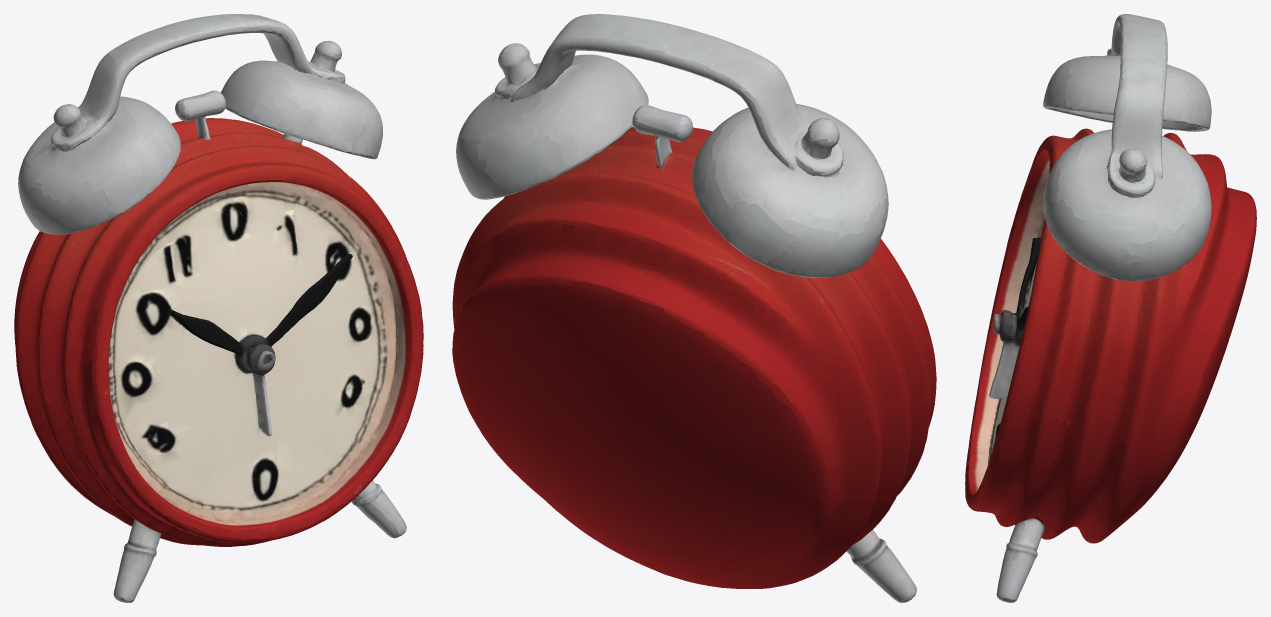
File: parts.glb
The picture shows the model from 3 angles, left to right: view 1: azimuth 30°, elevation 25°; view 2: azimuth 150°, elevation 25°; view 3: azimuth 270°, elevation 25°; orthographic projection. The views are drawn at different scales.
Bounding box in the file's own units: 0.1106 × 0.145 × 0.0774.
Materials: 8 (8 with a texture image).
